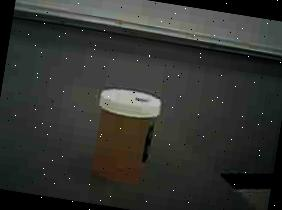Bottle B: (78, 76, 176, 196)
